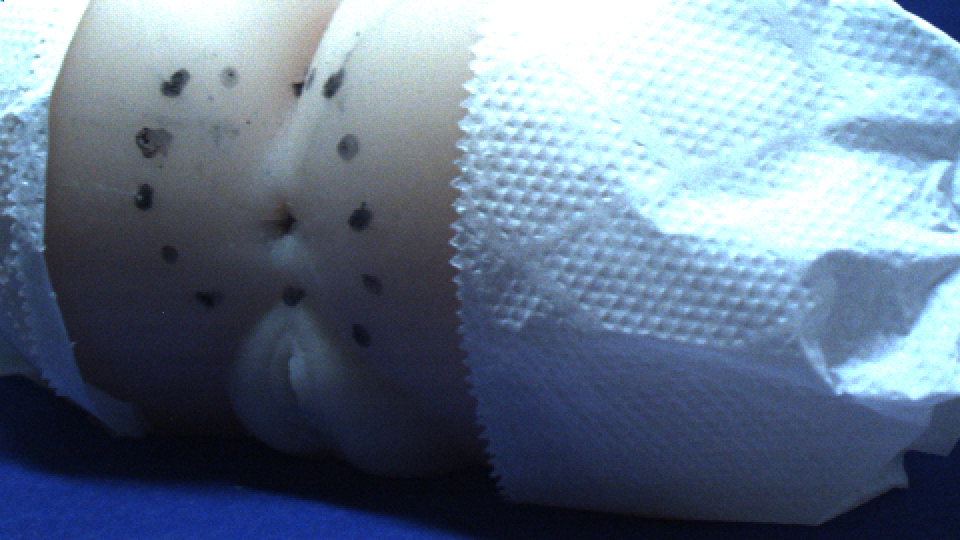asarp_marker: (130, 120, 176, 163), (127, 179, 168, 215), (156, 63, 195, 100), (341, 198, 377, 234), (189, 287, 238, 313), (319, 66, 353, 99), (347, 317, 380, 350), (278, 281, 312, 311), (358, 272, 389, 302), (334, 130, 362, 163), (216, 61, 245, 92), (159, 239, 184, 269), (290, 78, 309, 100), (306, 61, 316, 95)
